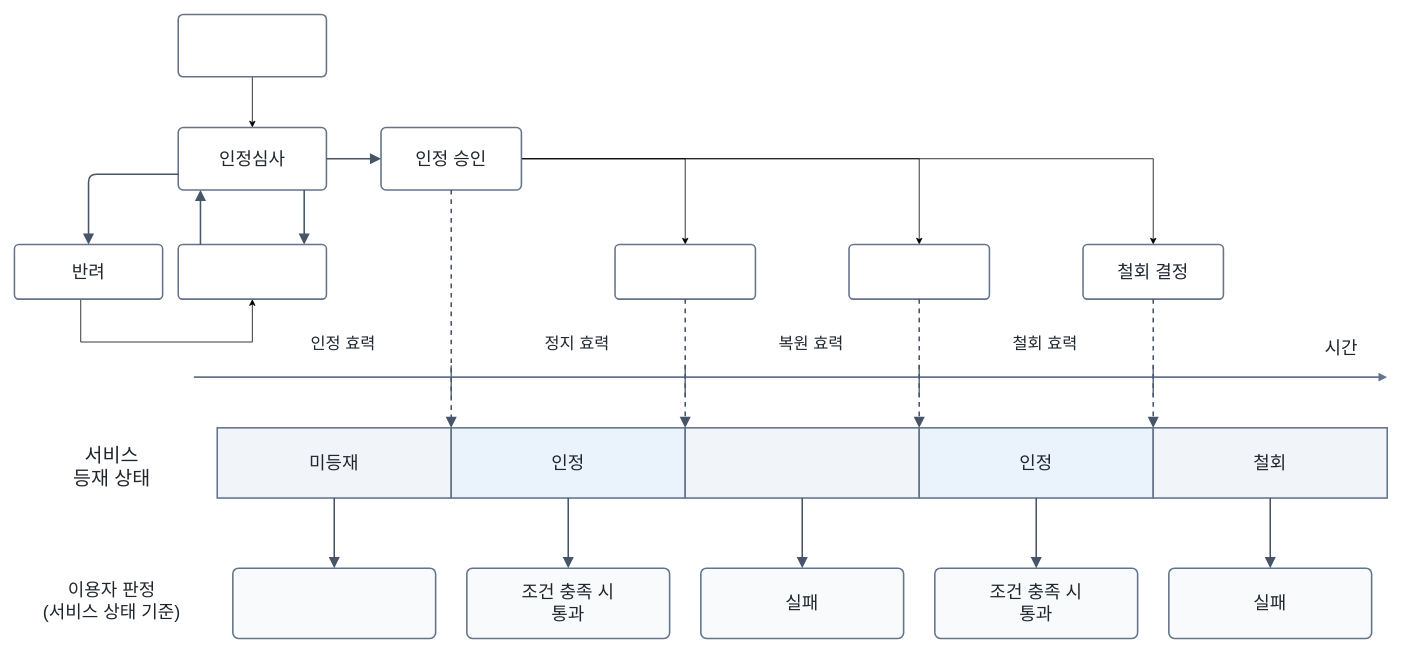
The diagram is 1408 pixels wide and 652 high, and some of its shapes have lost their labels. The shapes that lost their labels are listed below. From the top down, each one's box as (x1, y1, x2, y2) in pixels, then its label:
(177, 13, 327, 77): 사업자 인정 신청
(177, 243, 327, 300): 사업자 보완
(614, 243, 756, 300): 정지 결정
(848, 243, 990, 300): 복원 결정
(684, 427, 920, 498): 정지
(232, 567, 436, 639): 판단 보류
